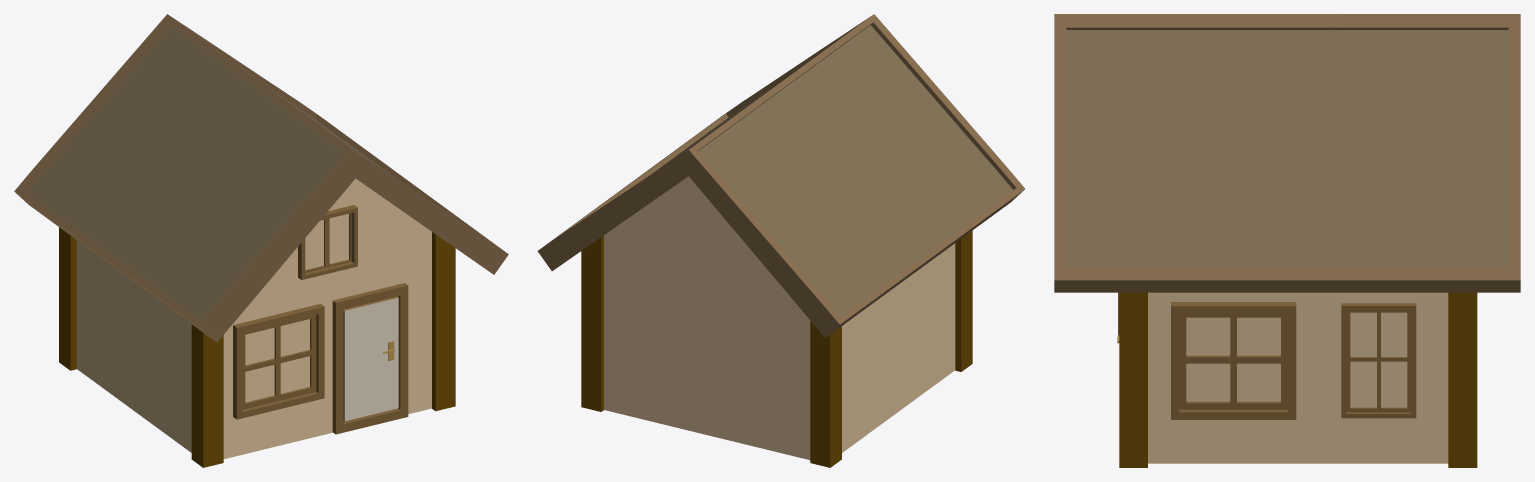
Rendered from house.fbx.
3 renders of one model, left to right at view 1: azimuth 30°, elevation 25°; view 2: azimuth 150°, elevation 25°; view 3: azimuth 270°, elevation 25°, orthographic. The views are drawn at different scales.
Visible parts, largest first — view 1: pCube1, pCube3, pCube4, pCube11, pCube8, pCube10, pCube7; view 2: pCube1, pCube10, pCube9, pCube11; view 3: pCube1, pCube5, pCube9, pCube8, pCube6.
Boxes of the visible parts, bbox=[...] form: pCube1: bbox=[14, 14, 508, 458]; pCube3: bbox=[332, 283, 408, 434]; pCube4: bbox=[233, 304, 324, 419]; pCube11: bbox=[191, 324, 223, 467]; pCube8: bbox=[432, 232, 455, 411]; pCube10: bbox=[59, 227, 76, 370]; pCube7: bbox=[298, 205, 357, 279]; pCube1: bbox=[537, 14, 1024, 459]; pCube10: bbox=[810, 321, 841, 467]; pCube9: bbox=[581, 235, 603, 411]; pCube11: bbox=[955, 230, 972, 371]; pCube1: bbox=[1054, 14, 1520, 463]; pCube5: bbox=[1171, 302, 1296, 419]; pCube9: bbox=[1448, 292, 1477, 467]; pCube8: bbox=[1119, 292, 1147, 467]; pCube6: bbox=[1341, 303, 1416, 418].
Size of the model in its own units: 3.5 by 3.32 by 3.72.
